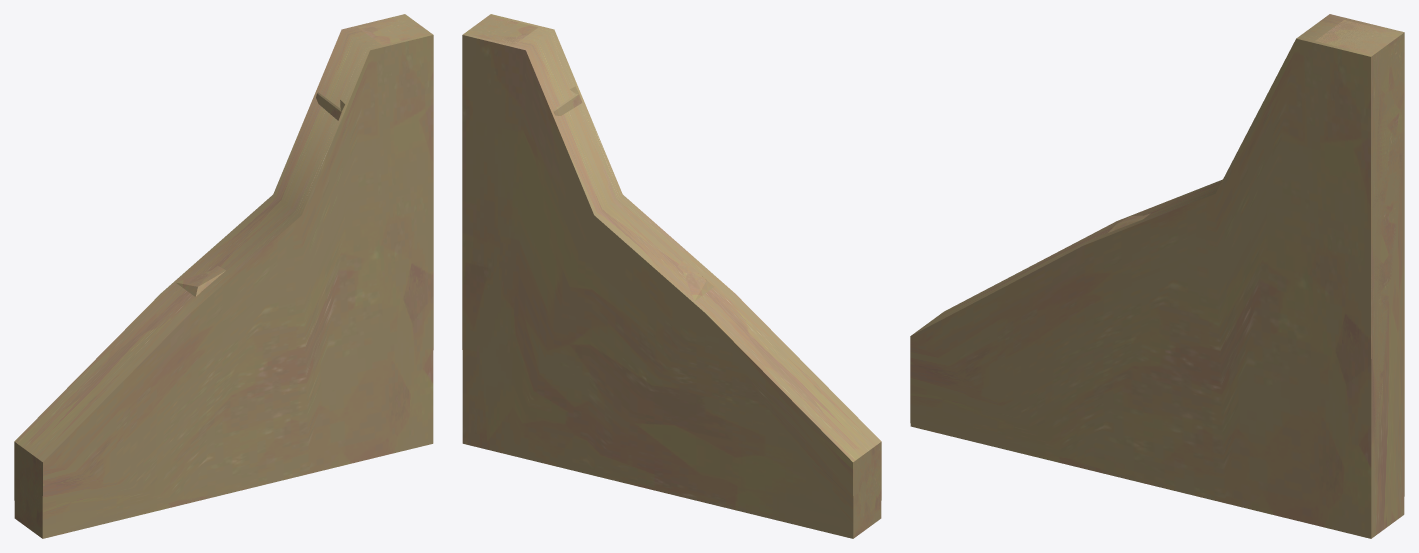
The model's file is BrokenWall_Full_A_Mir.fbx.
The picture shows the model from 3 angles, left to right: view 1: azimuth 30°, elevation 25°; view 2: azimuth 150°, elevation 25°; view 3: azimuth 330°, elevation 25°; orthographic projection. The views are drawn at different scales.
Visible parts, largest first — view 1: BrokenWall_A_Mir_COL, BrokenWall_A_Mir; view 2: BrokenWall_A_Mir_COL, BrokenWall_A_Mir; view 3: BrokenWall_A_Mir_COL, BrokenWall_A_Mir.
Boxes of the visible parts, x1,y1,x2,y2 form: BrokenWall_A_Mir_COL: (14,14,433,538); BrokenWall_A_Mir: (176,15,431,502); BrokenWall_A_Mir_COL: (462,14,881,538); BrokenWall_A_Mir: (464,15,714,300); BrokenWall_A_Mir_COL: (910,14,1404,538); BrokenWall_A_Mir: (1083,20,1404,488).
Size of the model in its own units: 400 by 400 by 50.61.
